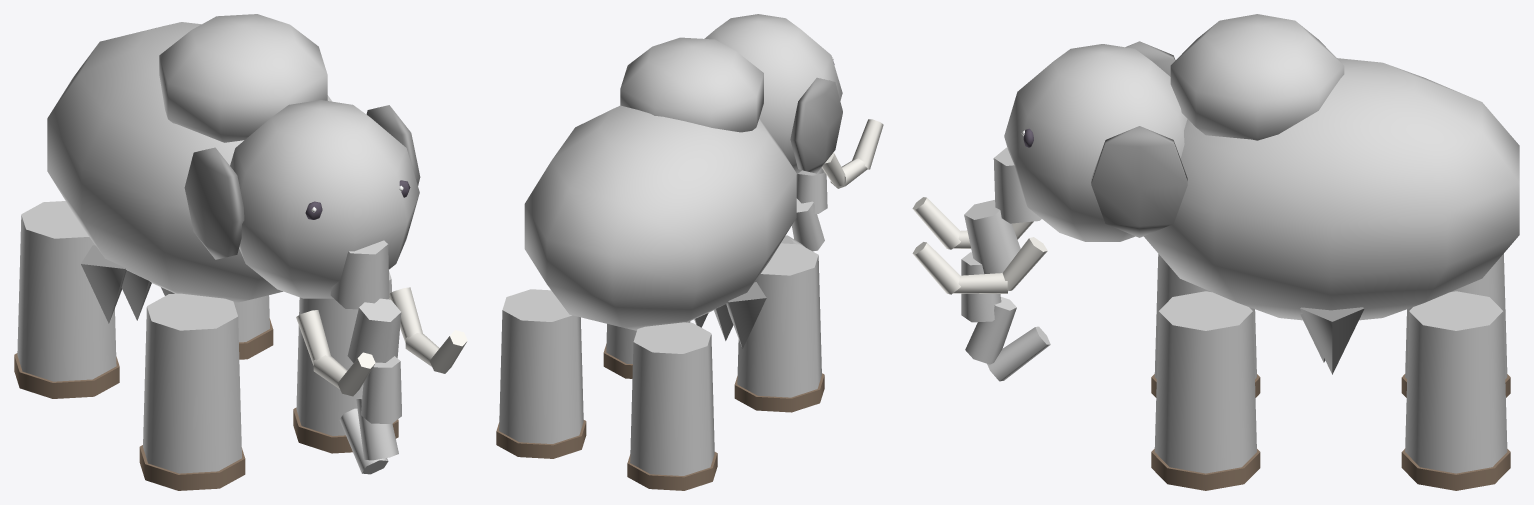
File: mammoth.glb
The picture shows the model from 3 angles, left to right: view 1: azimuth 30°, elevation 25°; view 2: azimuth 150°, elevation 25°; view 3: azimuth 270°, elevation 25°; orthographic projection. The views are drawn at different scales.
Visible parts, largest first — view 1: tint, detail; view 2: tint, detail; view 3: tint, detail.
Part boxes in pixels (box(x1,y1,x2,y2)): tint: box(17, 14, 420, 474); detail: box(14, 180, 467, 490); tint: box(499, 14, 842, 475); detail: box(496, 57, 883, 490); tint: box(961, 14, 1519, 473); detail: box(912, 128, 1510, 490).
Bounding box in the file's own units: 1.96 × 3.03 × 4.12.
